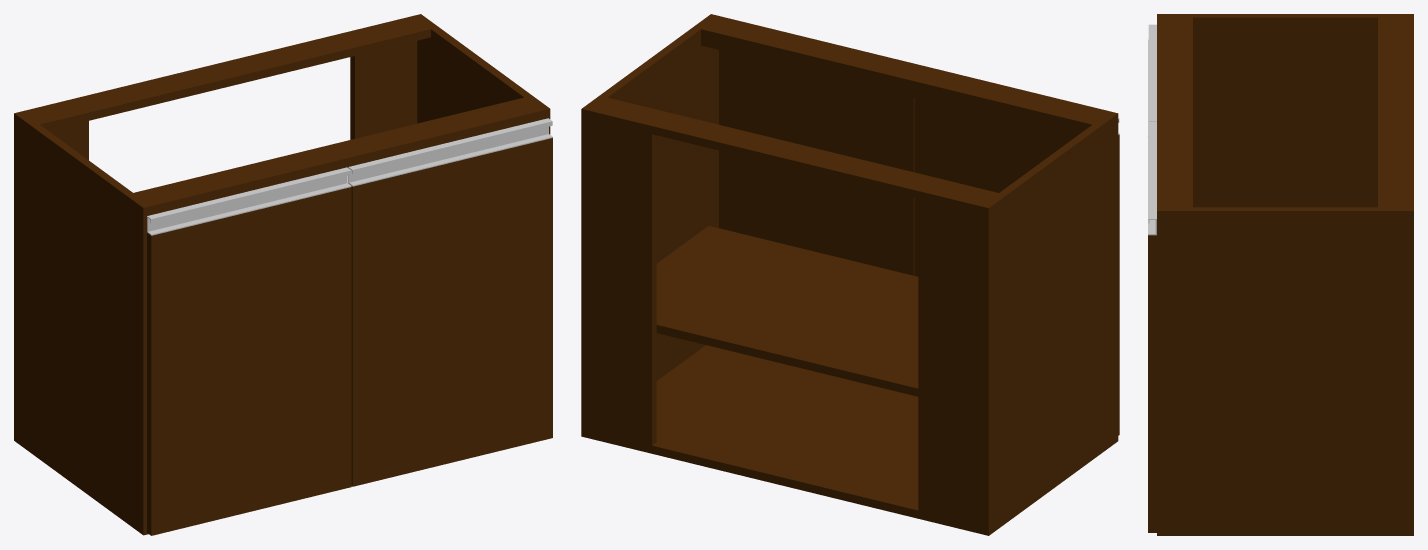
Rendered from proyecto.glb.
The picture shows the model from 3 angles, left to right: view 1: azimuth 30°, elevation 25°; view 2: azimuth 150°, elevation 25°; view 3: azimuth 270°, elevation 25°; orthographic projection.
Parts seen in each view (by area): view 1: P013, P012, P010, P008, P007, P011, P005, P001, P002, P006; view 2: P010, P003, P004, P012, P005, P006, P011, P007, P008, P013, P009; view 3: P011, P010, P007, P008, P012, P002, P001.
Boxes of the visible parts, box(x1,y1,x2,y2) form: P013: box(147, 187, 351, 535); P012: box(351, 138, 552, 486); P010: box(14, 111, 151, 535); P008: box(134, 97, 542, 214); P007: box(22, 16, 430, 130); P011: box(413, 14, 550, 134); P005: box(350, 41, 417, 139); P001: box(147, 167, 351, 235); P002: box(348, 118, 552, 186); P006: box(48, 121, 88, 159); P010: box(981, 111, 1118, 535); P003: box(589, 345, 980, 533); P004: box(656, 226, 918, 396); P012: box(719, 50, 914, 275); P005: box(589, 119, 656, 445); P006: box(918, 199, 980, 525); P011: box(581, 14, 718, 438); P007: box(589, 97, 998, 214); P008: box(701, 16, 1110, 130); P013: box(914, 98, 1119, 435); P009: box(701, 37, 1083, 136); P011: box(1157, 207, 1413, 535); P010: box(1157, 14, 1413, 207); P007: box(1378, 17, 1413, 207); P008: box(1157, 17, 1192, 207); P012: box(1148, 235, 1156, 532); P002: box(1148, 122, 1156, 235); P001: box(1148, 24, 1156, 137).
Bounding box in the file's own units: 0.7804 × 0.6 × 0.445.
